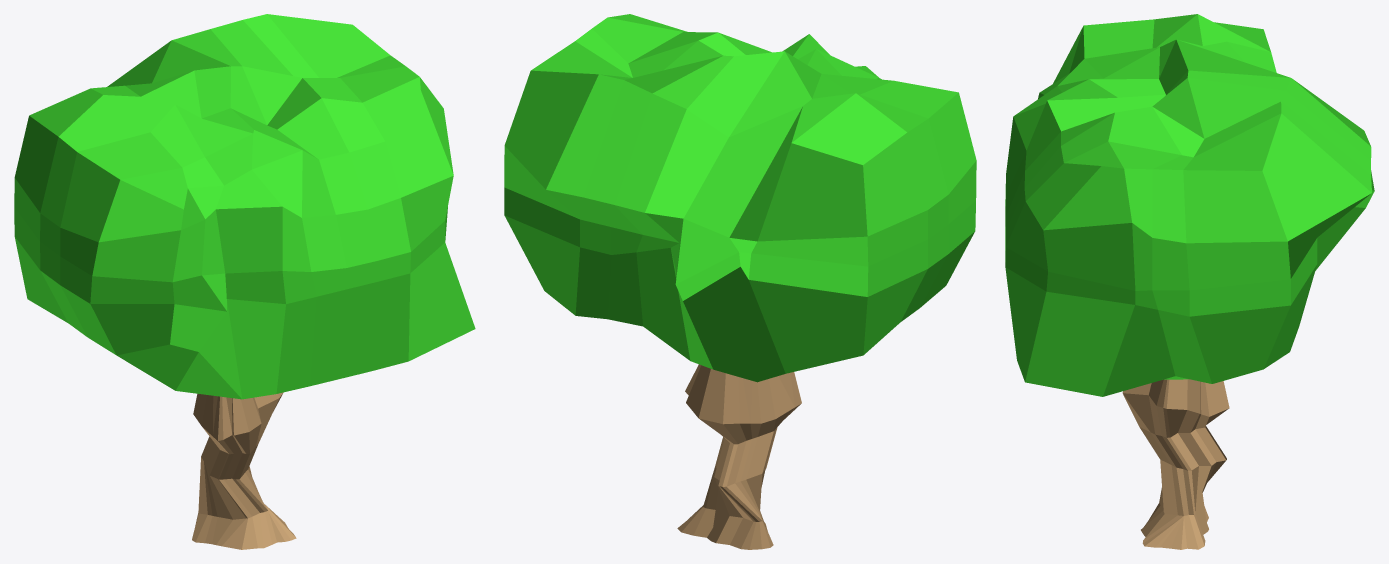
The model's file is tree1.glb.
The picture shows the model from 3 angles, left to right: view 1: azimuth 30°, elevation 25°; view 2: azimuth 150°, elevation 25°; view 3: azimuth 270°, elevation 25°; orthographic projection. The views are drawn at different scales.
Parts seen in each view (by area): view 1: Cubo, Cube; view 2: Cubo, Cube; view 3: Cubo, Cube.
Part boxes in pixels (x1,y1,x2,y2): Cubo: (14,14,475,399); Cube: (192,392,296,549); Cubo: (504,14,976,382); Cube: (677,364,801,549); Cubo: (1005,14,1374,396); Cube: (1122,379,1229,549).
Size of the model in its own units: 55.62 by 66.11 by 47.5.
